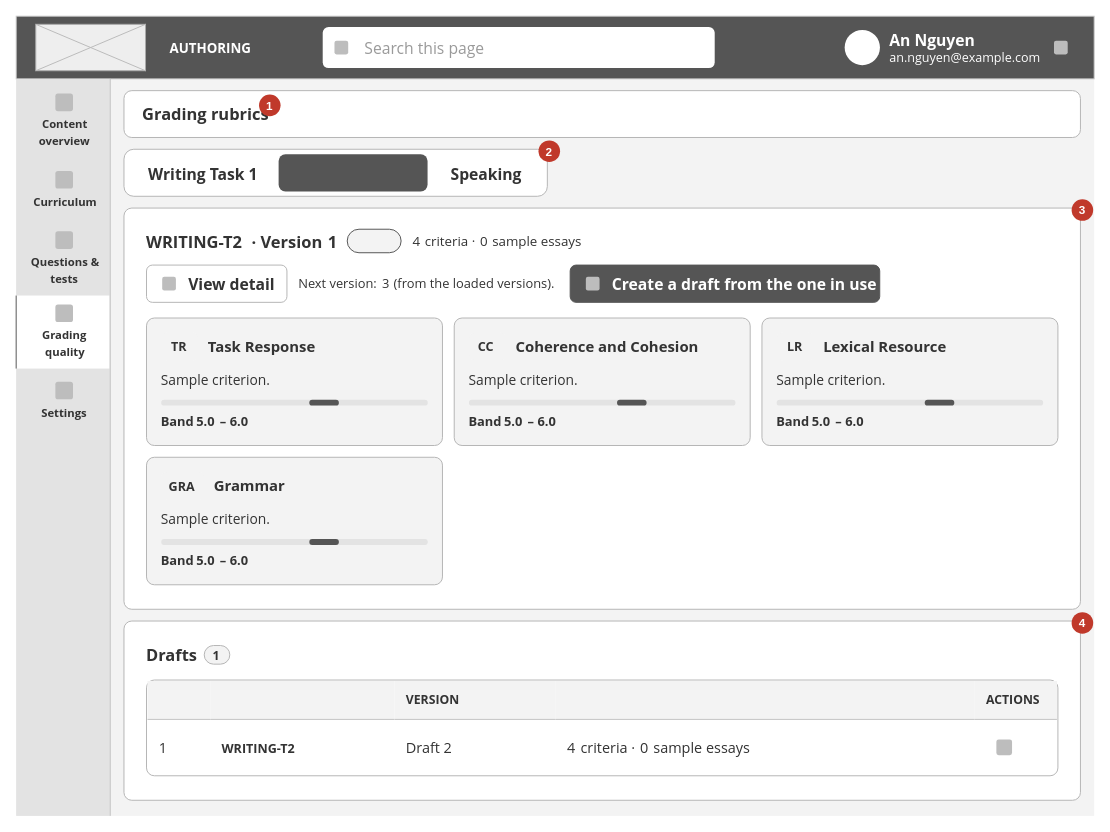
This 1110x832 diagram has some shape labels left out. Each missing label, with the box of its shape:
AN: (844, 29, 879, 65)
CRITERIA: (555, 681, 974, 719)
In use: (346, 228, 401, 253)
NO.: (147, 681, 210, 719)
RUBRIC: (210, 681, 394, 719)
Writing Task 2: (278, 154, 427, 191)
